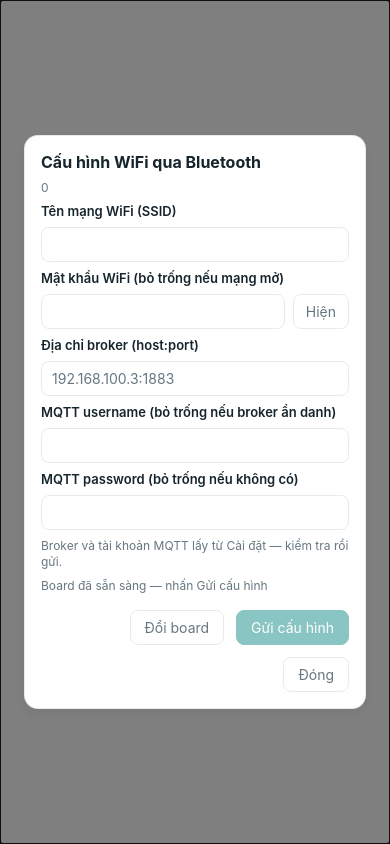
Test case: BleProvisioningModal › Đổi board returns to the scanning phase with a fresh scan (no auto-select trap)
The image size is (390, 844).
Expected: the text "0" is shown, [41, 180, 49, 195]
What coordinates should you click on to do the following:
click the element with test id "boards-ble-change-board"
I would click on:
 (177, 628)
Its box is [130, 610, 224, 645].
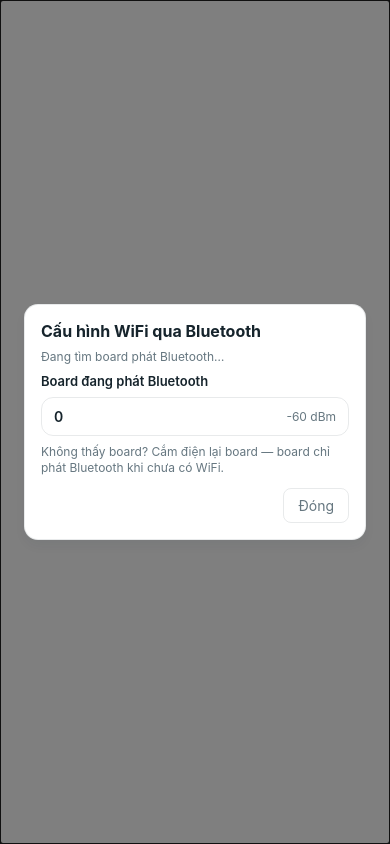
Expected: the text with test id "boards-ble-scan-hint" is shown, [41, 444, 349, 476]
Expected: no fields with test id "boards-ble-ssid-input" are shown
